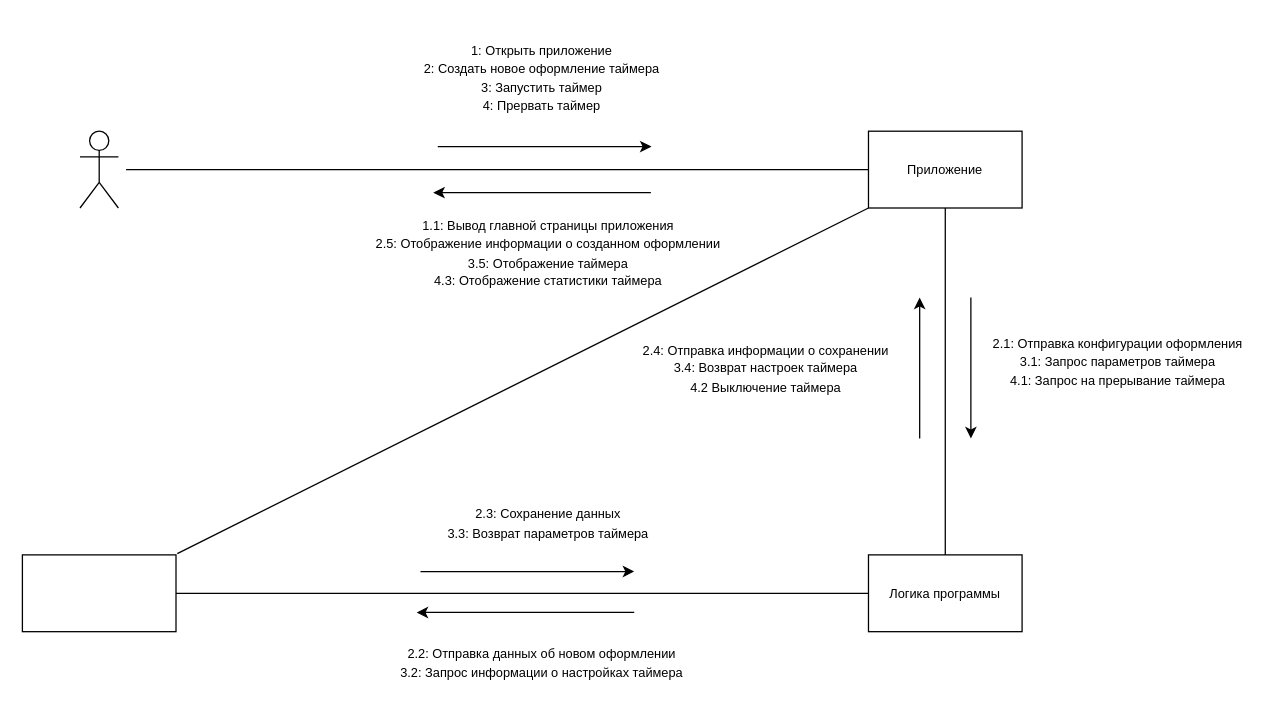
Image size: 1288x728. Some labels were removed from this diagram. Here are the shapes that lost their labels. From the top down, the centre of each, then its label:
the point at 98,169: Пользователь
the point at 98,593: База данных
